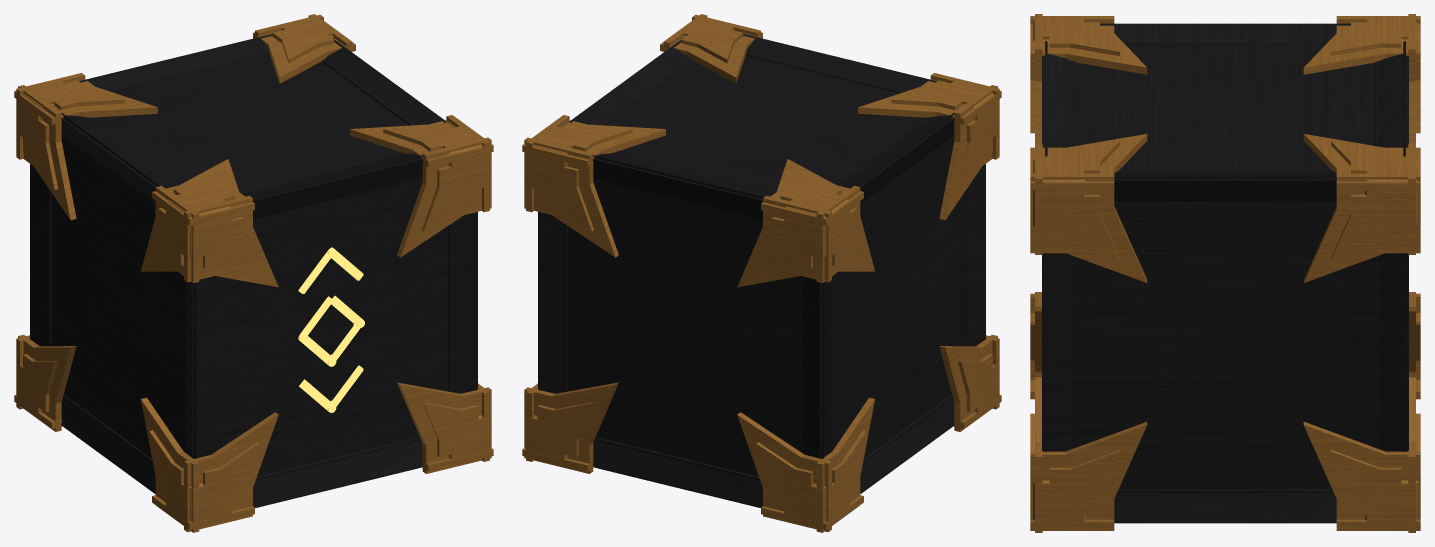
File: block_bastion.glb
The picture shows the model from 3 angles, left to right: view 1: azimuth 30°, elevation 25°; view 2: azimuth 150°, elevation 25°; view 3: azimuth 270°, elevation 25°; orthographic projection. The views are drawn at different scales.
Visible parts, largest first — view 1: Bastion_Body, Bastion_Caps, Bastion_Runes; view 2: Bastion_Body, Bastion_Caps; view 3: Bastion_Body, Bastion_Caps.
Part boxes in pixels (left/top/right/bottom): Bastion_Body: left=30, top=34, right=477, bottom=507; Bastion_Caps: left=14, top=14, right=493, bottom=532; Bastion_Runes: left=298, top=247, right=364, bottom=412; Bastion_Body: left=538, top=34, right=985, bottom=507; Bastion_Caps: left=522, top=14, right=1001, bottom=532; Bastion_Body: left=1042, top=23, right=1408, bottom=523; Bastion_Caps: left=1030, top=14, right=1420, bottom=532.
Size of the model in its own units: 1 by 1 by 1.
Materials: 3 (2 with a texture image).
